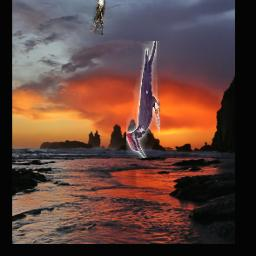Cuckoo: (90, 0, 106, 35)
Woodpecker: (125, 42, 159, 159)
